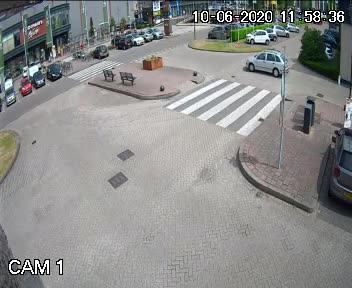car: (242, 45, 286, 78)
